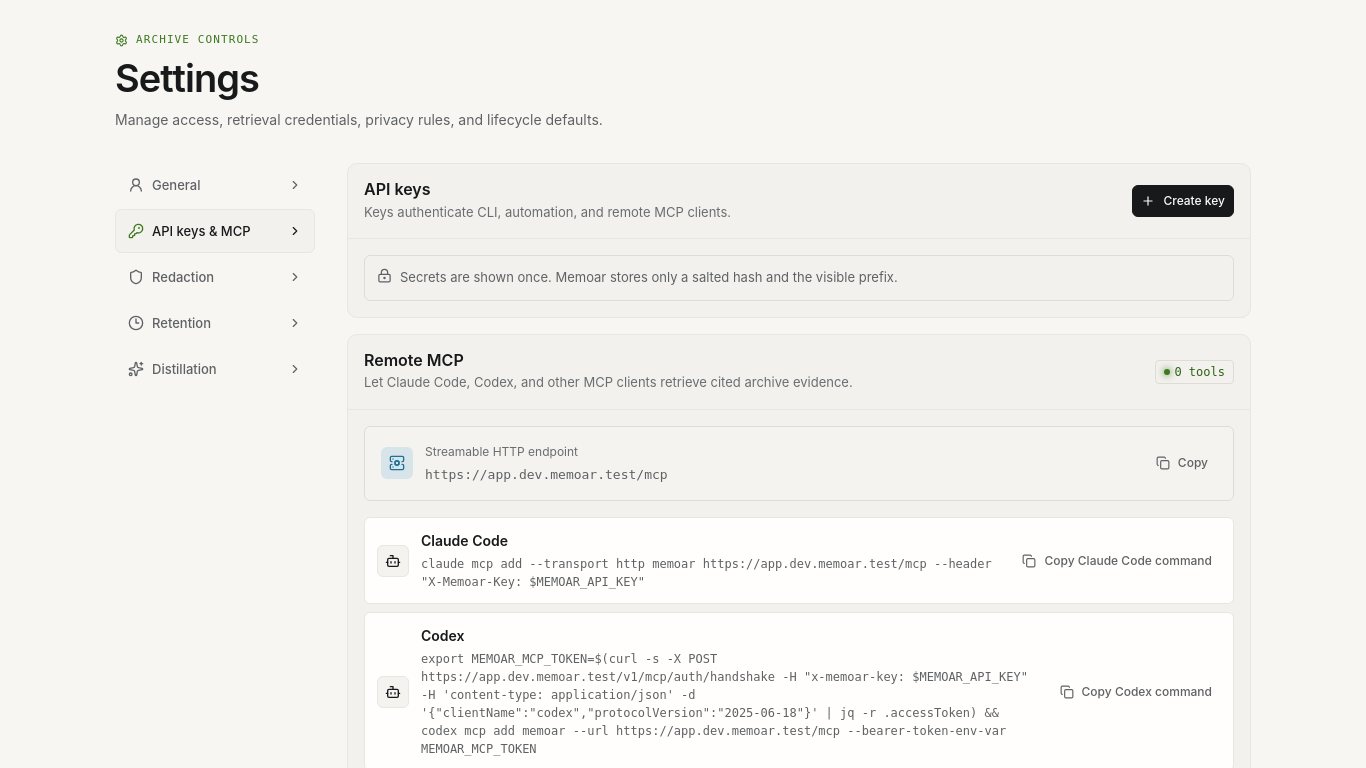
Test: changing a password in Settings › is offered to an account with a password
Click the button "General": (215, 185) 115,163 -> 315,207
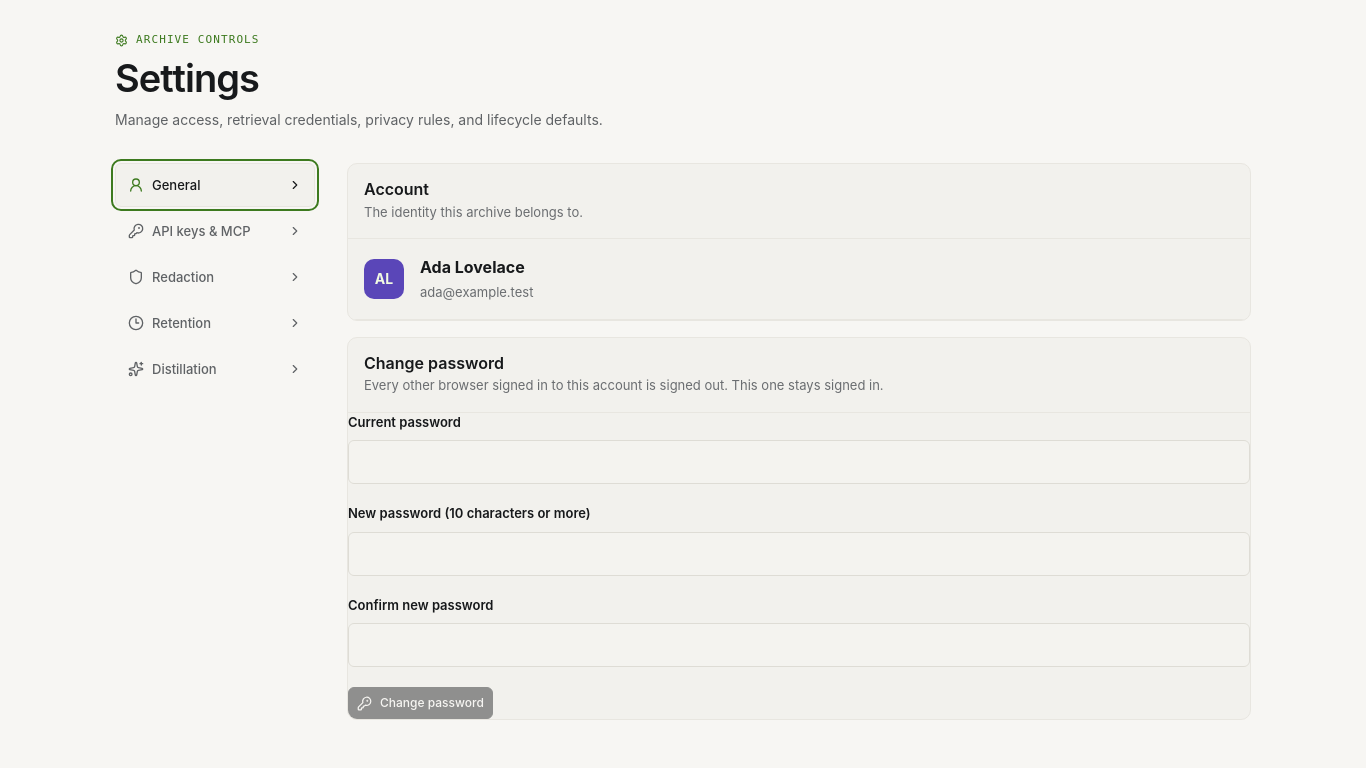
Now the heading "Change password" is shown, box 364,353 -> 504,373
